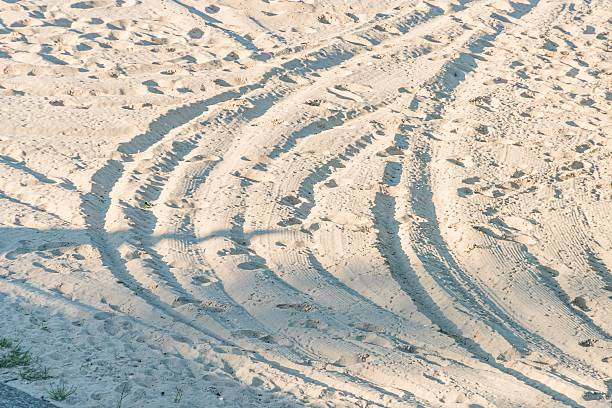vehicle_track: (0, 0, 611, 407), (373, 193, 579, 405), (411, 123, 564, 354), (411, 124, 563, 354), (119, 123, 205, 234), (199, 215, 266, 270), (119, 127, 167, 158), (534, 381, 566, 398), (544, 388, 563, 397), (132, 209, 141, 214)
